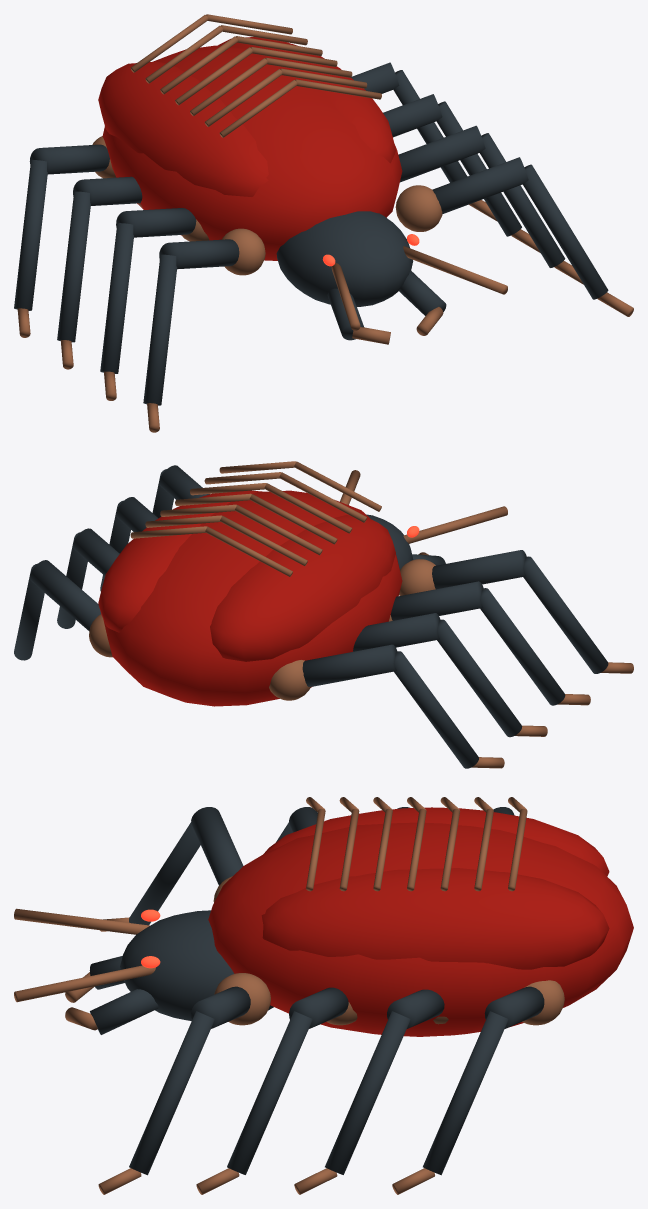
The model's file is virus.glb.
3 views of the same model, one above another, from view 1: azimuth 30°, elevation 25°; view 2: azimuth 150°, elevation 25°; view 3: azimuth 270°, elevation 25° (orthographic). The views are drawn at different scales.
Visible parts, largest first — view 1: body_core.001, body_copper.003, body_shell.002, leg0R_shell.002, leg0L_shell.002, leg3L_shell.001, leg1L_shell.002, leg1R_shell.002, leg2L_shell.002, leg2R_shell.002, leg0R_copper.002, leg3R_shell.001 (+3 smaller); view 2: body_core.001, body_copper.003, leg3L_shell.001, leg0L_shell.002, leg1L_shell.002, leg2L_shell.002, leg3R_shell.001, leg2R_shell.002, leg3L_copper.001, leg1R_shell.002, leg0R_shell.002, leg0L_copper.002 (+2 smaller); view 3: body_core.001, body_shell.002, body_copper.003, leg3R_shell.001, leg0R_shell.002, leg1R_shell.002, leg2R_shell.002, leg0L_shell.002, leg0R_copper.002, leg3R_copper.001, leg1R_copper.002, leg1L_shell.002 (+1 smaller).
Boxes of the visible parts, x1,y1,x2,y2 form: body_core.001: (98,37,402,260); body_copper.003: (130,14,507,344); body_shell.002: (276,211,446,340); leg0R_shell.002: (432,157,608,299); leg0L_shell.002: (143,239,239,405); leg3L_shell.001: (14,144,109,310); leg1L_shell.002: (100,208,196,373); leg1R_shell.002: (398,125,565,267); leg2L_shell.002: (57,176,142,342); leg2R_shell.002: (383,94,521,236); leg0R_copper.002: (395,185,633,316); leg3R_shell.001: (351,62,467,182); body_core.001: (98,490,402,706); body_copper.003: (130,461,507,576); leg3L_shell.001: (302,644,478,768); leg0L_shell.002: (432,550,608,673); leg1L_shell.002: (390,581,565,705); leg2L_shell.002: (353,613,522,737); leg3R_shell.001: (14,560,100,660); leg2R_shell.002: (57,528,119,628); leg3L_copper.001: (269,660,504,768); leg1R_shell.002: (100,497,158,591); leg0R_shell.002: (152,465,209,518); leg0L_copper.002: (399,559,633,673); body_core.001: (208,807,633,1036); body_shell.002: (89,910,273,1034); body_copper.003: (14,797,527,1030); leg3R_shell.001: (423,986,544,1175); leg0R_shell.002: (129,986,250,1175); leg1R_shell.002: (227,987,348,1174); leg2R_shell.002: (325,989,444,1174); leg0L_shell.002: (129,807,243,925); leg0R_copper.002: (98,973,270,1194); leg3R_copper.001: (392,980,564,1194); leg1R_copper.002: (196,1002,357,1194); leg1L_shell.002: (276,807,317,842).
Size of the model in its own units: 1.04 by 0.4593 by 1.01.
